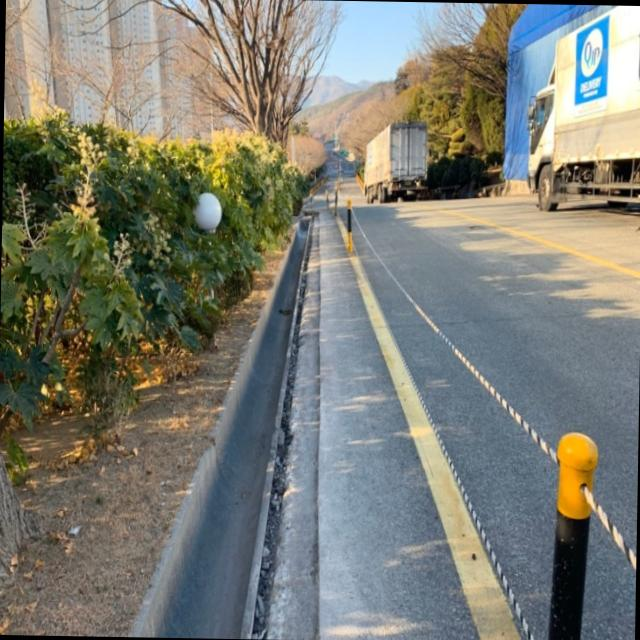asphalt: (338, 177, 640, 550), (314, 198, 556, 640), (581, 527, 636, 640)
cement: (128, 223, 306, 639)
red-sand: (0, 251, 280, 637)
